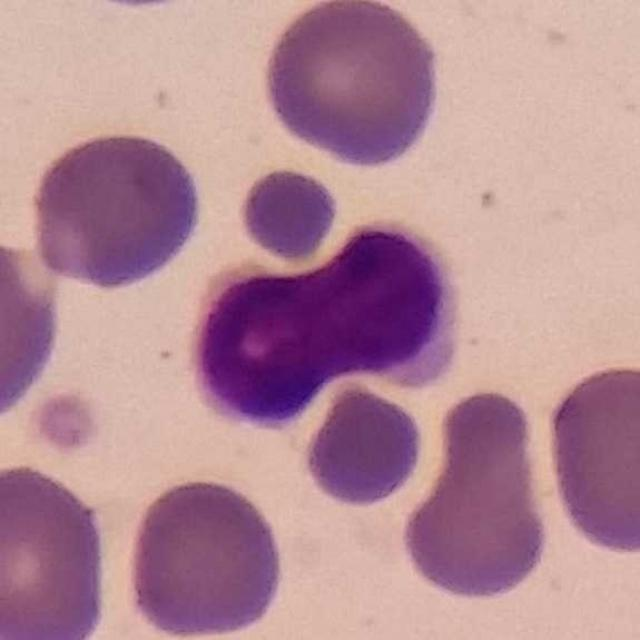Lymphocyte: (179, 207, 478, 435)
Platelets: (36, 390, 100, 461)
RBC: (397, 382, 557, 600), (257, 0, 446, 170), (25, 125, 208, 294), (122, 473, 290, 640), (0, 457, 116, 640), (540, 356, 640, 560), (297, 380, 429, 512), (0, 229, 67, 433), (235, 164, 342, 264)
